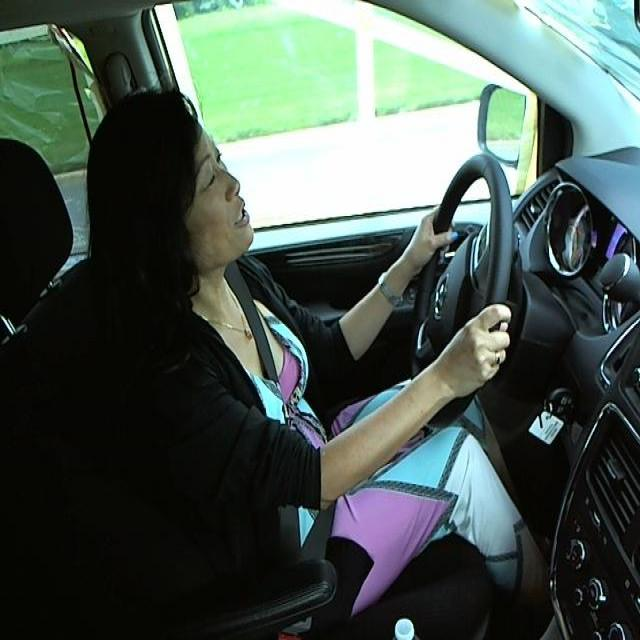without_using_phone: (46, 79, 289, 353)
